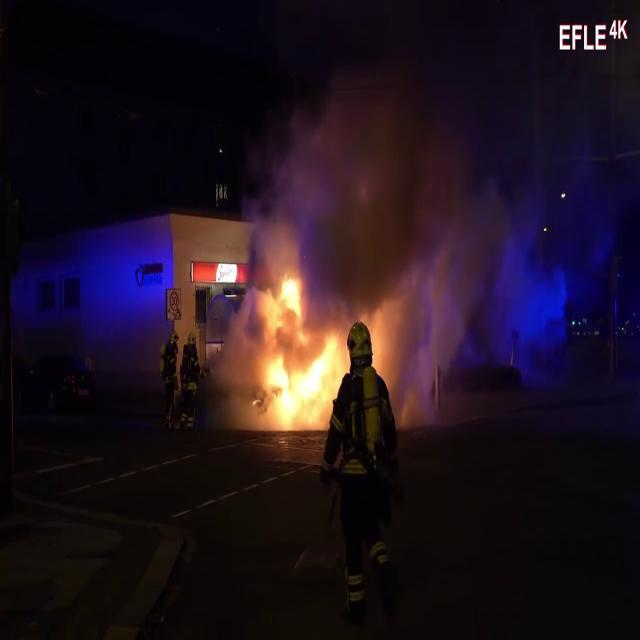Fire: (248, 271, 342, 428)
Smoke: (246, 28, 560, 322)
